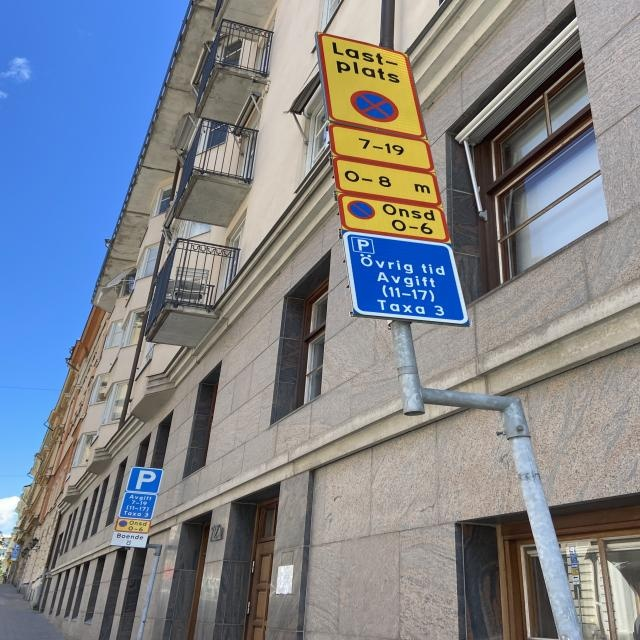lastplats: (316, 29, 422, 140)
